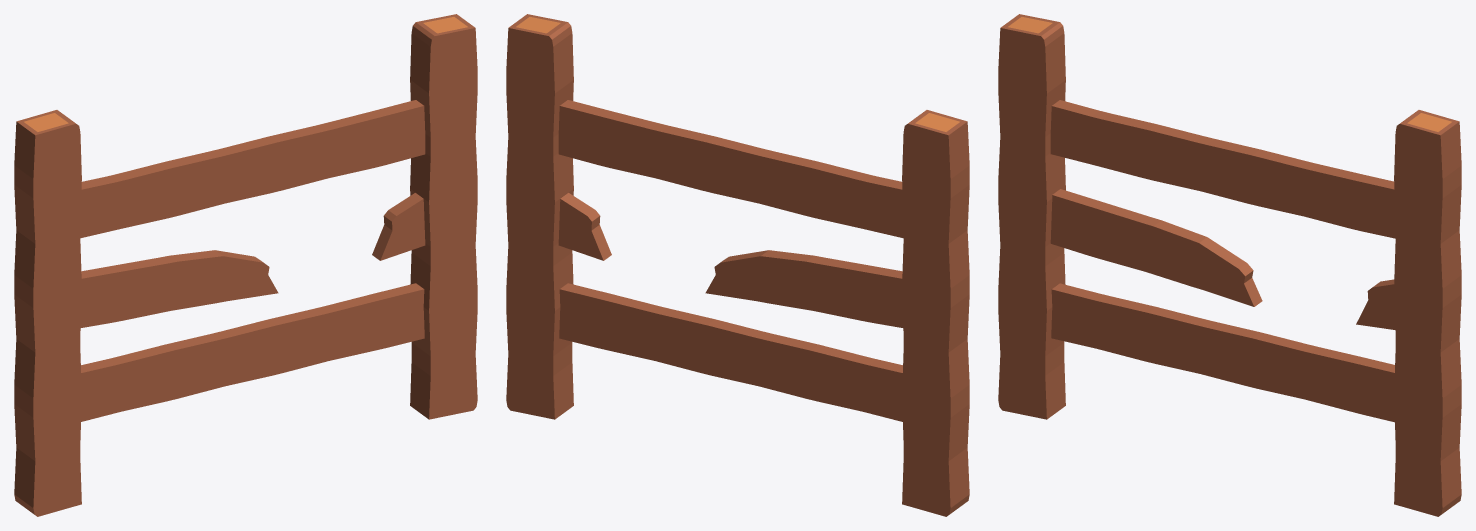
The model's file is CercaQuebrada.fbx.
3 views of the same model, side by side, from view 1: azimuth 30°, elevation 25°; view 2: azimuth 150°, elevation 25°; view 3: azimuth 330°, elevation 25° (orthographic).
Parts seen in each view (by area): view 1: CercaQuebrada; view 2: CercaQuebrada; view 3: CercaQuebrada.
Part boxes in pixels (x1,y1,x2,y2): CercaQuebrada: (14,14,477,516); CercaQuebrada: (506,14,969,516); CercaQuebrada: (998,14,1461,516).
Size of the model in its own units: 1.14 by 0.9448 by 0.0855.
